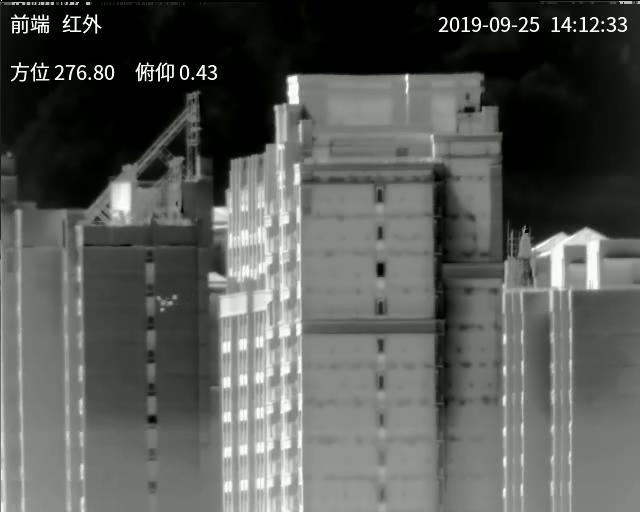uav: (155, 292, 179, 313)
